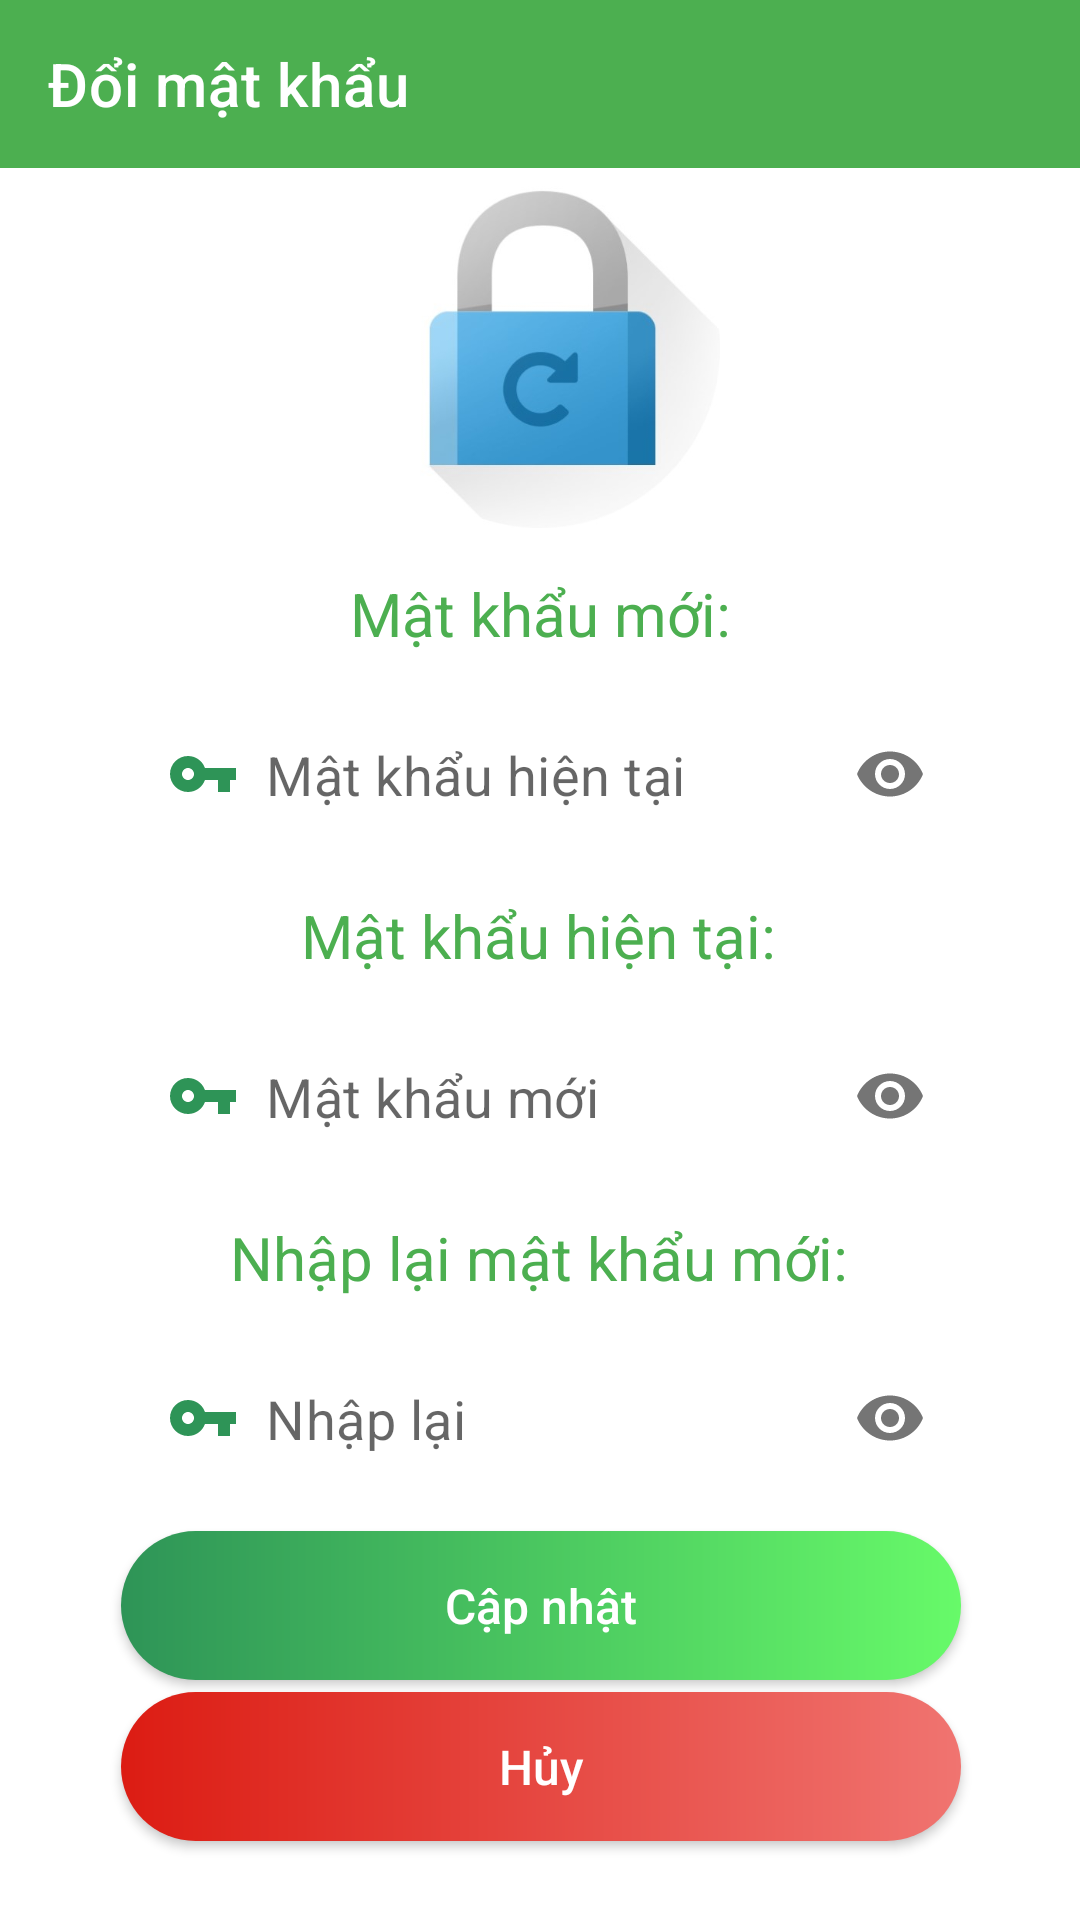

Icons on this 1080*1920 Android screen, each with its box as BBox(x1, y1, x2, y2):
lock: BBox(429, 191, 675, 483)
